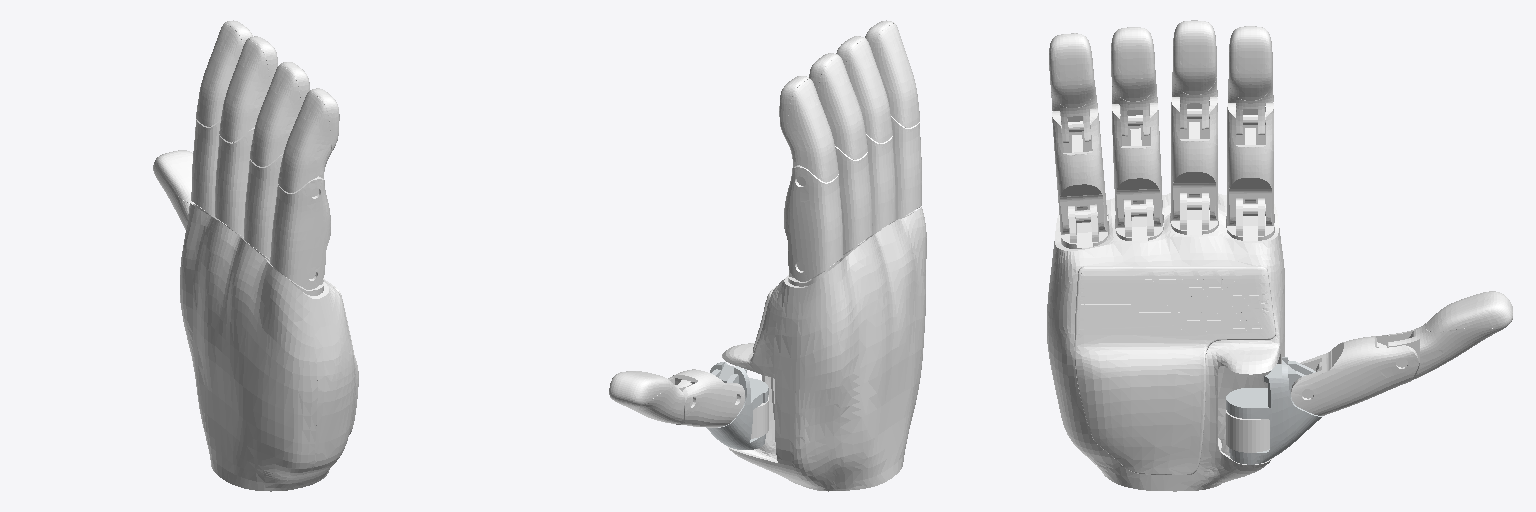
URDF robot description (Righthand):
<?xml version="1.0" encoding="utf-8"?>
<!-- This URDF was automatically created by SolidWorks to URDF Exporter! Originally created by Stephen Brawner (brawner@gmail.com) 
     Commit Version: 1.6.0-4-g7f85cfe  Build Version: 1.6.7995.38578
     For more information, please see http://wiki.ros.org/sw_urdf_exporter -->
<robot
  name="Righthand">
  <link
    name="Base">
    <inertial>
      <origin
        xyz="0.0036213 0.0021608 0.066147"
        rpy="0 0 0" />
      <mass
        value="0.084023" />
      <inertia
        ixx="8.4527E-05"
        ixy="-2.5856E-07"
        ixz="-3.5344E-06"
        iyy="5.0035E-05"
        iyz="2.0761E-06"
        izz="4.5045E-05" />
    </inertial>
    <visual>
      <origin
        xyz="0 0 0"
        rpy="0 0 0" />
      <geometry>
        <mesh
          filename="package://kepler_dexterous_hand_description/meshes/right/right_base.STL" />
      </geometry>
      <material
        name="">
        <color
          rgba="1 1 1 1" />
      </material>
    </visual>
    <collision>
      <origin
        xyz="0 0 0"
        rpy="0 0 0" />
      <geometry>
        <mesh
          filename="package://kepler_dexterous_hand_description/meshes/right/right_base.STL" />
      </geometry>
    </collision>
  </link>
  <link
    name="right_thumb_1_roll">
    <inertial>
      <origin
        xyz="-0.011014 0.00037885 0.0065619"
        rpy="0 0 0" />
      <mass
        value="0.024514" />
      <inertia
        ixx="3.6201E-06"
        ixy="1.3875E-08"
        ixz="-7.2522E-07"
        iyy="4.9359E-06"
        iyz="4.15E-08"
        izz="2.9566E-06" />
    </inertial>
    <visual>
      <origin
        xyz="0 0 0"
        rpy="0 0 0" />
      <geometry>
        <mesh
          filename="package://kepler_dexterous_hand_description/meshes/right/right_thumb_1_roll.STL" />
      </geometry>
      <material
        name="">
        <color
          rgba="0.89804 0.91765 0.92941 1" />
      </material>
    </visual>
    <collision>
      <origin
        xyz="0 0 0"
        rpy="0 0 0" />
      <geometry>
        <mesh
          filename="package://kepler_dexterous_hand_description/meshes/right/right_thumb_1_roll.STL" />
      </geometry>
    </collision>
  </link>
  <joint
    name="right_thumb_1_roll"
    type="revolute">
    <origin
      xyz="0.030472 0.035543 0.032711"
      rpy="0 0 -1.5708" />
    <parent
      link="Base" />
    <child
      link="right_thumb_1_roll" />
    <axis
      xyz="0 0 -1" />
    <limit
      lower="0.000"
      upper="2.269"
      effort="0.500"
      velocity="1.500" />
  </joint>
  <link
    name="right_thumb_2_pitch">
    <inertial>
      <origin
        xyz="0.01953 0.0066571 -1.3101E-08"
        rpy="0 0 0" />
      <mass
        value="0.0287" />
      <inertia
        ixx="2.5196E-06"
        ixy="1.4257E-06"
        ixz="-9.0266E-12"
        iyy="5.6817E-06"
        iyz="-1.1074E-11"
        izz="5.8075E-06" />
    </inertial>
    <visual>
      <origin
        xyz="0 0 0"
        rpy="0 0 0" />
      <geometry>
        <mesh
          filename="package://kepler_dexterous_hand_description/meshes/right/right_thumb_2_pitch.STL" />
      </geometry>
      <material
        name="">
        <color
          rgba="1 1 1 1" />
      </material>
    </visual>
    <collision>
      <origin
        xyz="0 0 0"
        rpy="0 0 0" />
      <geometry>
        <mesh
          filename="package://kepler_dexterous_hand_description/meshes/right/right_thumb_2_pitch.STL" />
      </geometry>
    </collision>
  </link>
  <joint
    name="right_thumb_2_pitch"
    type="revolute">
    <origin
      xyz="-0.024 0 0.01915"
      rpy="1.5708 0 -3.1416" />
    <parent
      link="right_thumb_1_roll" />
    <child
      link="right_thumb_2_pitch" />
    <axis
      xyz="0 0 1" />
    <limit
      lower="0.000"
      upper="1.309"
      effort="0.500"
      velocity="1.500" />
  </joint>
  <link
    name="right_thumb_3_pitch">
    <inertial>
      <origin
        xyz="0.022918 0.01075 1.4591E-08"
        rpy="0 0 0" />
      <mass
        value="0.013259" />
      <inertia
        ixx="9.3593E-07"
        ixy="6.3056E-07"
        ixz="4.764E-12"
        iyy="1.7968E-06"
        iyz="2.0339E-12"
        izz="2.0568E-06" />
    </inertial>
    <visual>
      <origin
        xyz="0 0 0"
        rpy="0 0 0" />
      <geometry>
        <mesh
          filename="package://kepler_dexterous_hand_description/meshes/right/right_thumb_3_pitch.STL" />
      </geometry>
      <material
        name="">
        <color
          rgba="1 1 1 1" />
      </material>
    </visual>
    <collision>
      <origin
        xyz="0 0 0"
        rpy="0 0 0" />
      <geometry>
        <mesh
          filename="package://kepler_dexterous_hand_description/meshes/right/right_thumb_3_pitch.STL" />
      </geometry>
    </collision>
  </link>
  <joint
    name="right_thumb_3_pitch"
    type="revolute">
    <origin
      xyz="0.039467 0.014365 0"
      rpy="0 0 0" />
    <parent
      link="right_thumb_2_pitch" />
    <child
      link="right_thumb_3_pitch" />
    <axis
      xyz="0 0 1" />
    <limit
      lower="0.000"
      upper="1.658"
      effort="0.500"
      velocity="1.500" />
    <mimic joint="right_thumb_2_pitch" multiplier="1.2666157372039724" offset="0" />
  </joint>
  <link
    name="right_index_finger_2_pitch">
    <inertial>
      <origin
        xyz="0.00042387 0.020629 -2.1472E-08"
        rpy="0 0 0" />
      <mass
        value="0.010339" />
      <inertia
        ixx="2.2437E-06"
        ixy="-2.7333E-08"
        ixz="2.7958E-12"
        iyy="7.1078E-07"
        iyz="-4.0282E-12"
        izz="2.0922E-06" />
    </inertial>
    <visual>
      <origin
        xyz="0 0 0"
        rpy="0 0 0" />
      <geometry>
        <mesh
          filename="package://kepler_dexterous_hand_description/meshes/right/right_index_finger_2_pitch.STL" />
      </geometry>
      <material
        name="">
        <color
          rgba="1 1 1 1" />
      </material>
    </visual>
    <collision>
      <origin
        xyz="0 0 0"
        rpy="0 0 0" />
      <geometry>
        <mesh
          filename="package://kepler_dexterous_hand_description/meshes/right/right_index_finger_2_pitch.STL" />
      </geometry>
    </collision>
  </link>
  <joint
    name="right_index_finger_2_pitch"
    type="revolute">
    <origin
      xyz="-0.0035478 0.035543 0.117"
      rpy="1.5708 0 -3.1416" />
    <parent
      link="Base" />
    <child
      link="right_index_finger_2_pitch" />
    <axis
      xyz="0 0 1" />
    <limit
      lower="0.000"
      upper="1.658"
      effort="0.500"
      velocity="1.500" />
  </joint>
  <link
    name="right_index_finger_3_pitch">
    <inertial>
      <origin
        xyz="-0.0024403 0.021904 -1.1888E-06"
        rpy="0 0 0" />
      <mass
        value="0.011204" />
      <inertia
        ixx="1.5656E-06"
        ixy="-2.6558E-07"
        ixz="1.0223E-11"
        iyy="5.19E-07"
        iyz="-9.254E-12"
        izz="1.5727E-06" />
    </inertial>
    <visual>
      <origin
        xyz="0 0 0"
        rpy="0 0 0" />
      <geometry>
        <mesh
          filename="package://kepler_dexterous_hand_description/meshes/right/right_index_finger_3_pitch.STL" />
      </geometry>
      <material
        name="">
        <color
          rgba="1 1 1 1" />
      </material>
    </visual>
    <collision>
      <origin
        xyz="0 0 0"
        rpy="0 0 0" />
      <geometry>
        <mesh
          filename="package://kepler_dexterous_hand_description/meshes/right/right_index_finger_3_pitch.STL" />
      </geometry>
    </collision>
  </link>
  <joint
    name="right_index_finger_3_pitch"
    type="revolute">
    <origin
      xyz="0 0.042 0"
      rpy="0 0 0" />
    <parent
      link="right_index_finger_2_pitch" />
    <child
      link="right_index_finger_3_pitch" />
    <axis
      xyz="0 0 1" />
    <limit
      lower="0.000"
      upper="1.658"
      effort="0.500"
      velocity="1.500" />
    <mimic joint="right_index_finger_2_pitch" multiplier="1" offset="0" />
  </joint>
  <link
    name="right_middle_finger_2_pitch">
    <inertial>
      <origin
        xyz="0.00042387 0.020629 -1.9812E-08"
        rpy="0 0 0" />
      <mass
        value="0.010339" />
      <inertia
        ixx="2.2437E-06"
        ixy="-2.7333E-08"
        ixz="2.6732E-12"
        iyy="7.1078E-07"
        iyz="-4.1276E-12"
        izz="2.0922E-06" />
    </inertial>
    <visual>
      <origin
        xyz="0 0 0"
        rpy="0 0 0" />
      <geometry>
        <mesh
          filename="package://kepler_dexterous_hand_description/meshes/right/right_middle_finger_2_pitch.STL" />
      </geometry>
      <material
        name="">
        <color
          rgba="1 1 1 1" />
      </material>
    </visual>
    <collision>
      <origin
        xyz="0 0 0"
        rpy="0 0 0" />
      <geometry>
        <mesh
          filename="package://kepler_dexterous_hand_description/meshes/right/right_middle_finger_2_pitch.STL" />
      </geometry>
    </collision>
  </link>
  <joint
    name="right_middle_finger_2_pitch"
    type="revolute">
    <origin
      xyz="-0.0050472 0.012043 0.119"
      rpy="1.5708 0 -3.1416" />
    <parent
      link="Base" />
    <child
      link="right_middle_finger_2_pitch" />
    <axis
      xyz="0 0 1" />
    <limit
      lower="0.000"
      upper="1.658"
      effort="0.500"
      velocity="1.500" />
  </joint>
  <link
    name="right_middle_finger_3_pitch">
    <inertial>
      <origin
        xyz="-0.0024403 0.021904 -1.1896E-06"
        rpy="0 0 0" />
      <mass
        value="0.011204" />
      <inertia
        ixx="1.5656E-06"
        ixy="-2.6558E-07"
        ixz="1.0232E-11"
        iyy="5.19E-07"
        iyz="-9.3111E-12"
        izz="1.5727E-06" />
    </inertial>
    <visual>
      <origin
        xyz="0 0 0"
        rpy="0 0 0" />
      <geometry>
        <mesh
          filename="package://kepler_dexterous_hand_description/meshes/right/right_middle_finger_3_pitch.STL" />
      </geometry>
      <material
        name="">
        <color
          rgba="1 1 1 1" />
      </material>
    </visual>
    <collision>
      <origin
        xyz="0 0 0"
        rpy="0 0 0" />
      <geometry>
        <mesh
          filename="package://kepler_dexterous_hand_description/meshes/right/right_middle_finger_3_pitch.STL" />
      </geometry>
    </collision>
  </link>
  <joint
    name="right_middle_finger_3_pitch"
    type="revolute">
    <origin
      xyz="0 0.042 0"
      rpy="0 0 0" />
    <parent
      link="right_middle_finger_2_pitch" />
    <child
      link="right_middle_finger_3_pitch" />
    <axis
      xyz="0 0 1" />
    <limit
      lower="0.000"
      upper="1.658"
      effort="0.500"
      velocity="1.500" />
    <mimic joint="right_middle_finger_2_pitch" multiplier="1" offset="0" />
  </joint>
  <link
    name="right_ring_finger_2_pitch">
    <inertial>
      <origin
        xyz="0.00042374 0.020629 -2.2059E-08"
        rpy="0 0 0" />
      <mass
        value="0.010339" />
      <inertia
        ixx="2.2437E-06"
        ixy="-2.7343E-08"
        ixz="2.6483E-12"
        iyy="7.1078E-07"
        iyz="-4.2261E-12"
        izz="2.0922E-06" />
    </inertial>
    <visual>
      <origin
        xyz="0 0 0"
        rpy="0 0 0" />
      <geometry>
        <mesh
          filename="package://kepler_dexterous_hand_description/meshes/right/right_ring_finger_2_pitch.STL" />
      </geometry>
      <material
        name="">
        <color
          rgba="1 1 1 1" />
      </material>
    </visual>
    <collision>
      <origin
        xyz="0 0 0"
        rpy="0 0 0" />
      <geometry>
        <mesh
          filename="package://kepler_dexterous_hand_description/meshes/right/right_ring_finger_2_pitch.STL" />
      </geometry>
    </collision>
  </link>
  <joint
    name="right_ring_finger_2_pitch"
    type="revolute">
    <origin
      xyz="-0.0035462 -0.011289 0.11663"
      rpy="1.5359 0 -3.1415" />
    <parent
      link="Base" />
    <child
      link="right_ring_finger_2_pitch" />
    <axis
      xyz="0 0 1" />
    <limit
      lower="0.000"
      upper="1.658"
      effort="0.500"
      velocity="1.500" />
  </joint>
  <link
    name="right_ring_finger_3_pitch">
    <inertial>
      <origin
        xyz="-0.0024404 0.021903 -1.1982E-06"
        rpy="0 0 0" />
      <mass
        value="0.011204" />
      <inertia
        ixx="1.5656E-06"
        ixy="-2.6559E-07"
        ixz="1.0482E-11"
        iyy="5.19E-07"
        iyz="-1.1224E-11"
        izz="1.5727E-06" />
    </inertial>
    <visual>
      <origin
        xyz="0 0 0"
        rpy="0 0 0" />
      <geometry>
        <mesh
          filename="package://kepler_dexterous_hand_description/meshes/right/right_ring_finger_3_pitch.STL" />
      </geometry>
      <material
        name="">
        <color
          rgba="1 1 1 1" />
      </material>
    </visual>
    <collision>
      <origin
        xyz="0 0 0"
        rpy="0 0 0" />
      <geometry>
        <mesh
          filename="package://kepler_dexterous_hand_description/meshes/right/right_ring_finger_3_pitch.STL" />
      </geometry>
    </collision>
  </link>
  <joint
    name="right_ring_finger_3_pitch"
    type="revolute">
    <origin
      xyz="0 0.042 0"
      rpy="0 0 0" />
    <parent
      link="right_ring_finger_2_pitch" />
    <child
      link="right_ring_finger_3_pitch" />
    <axis
      xyz="0 0 1" />
    <limit
      lower="0.000"
      upper="1.658"
      effort="0.500"
      velocity="1.500" />
    <mimic joint="right_ring_finger_2_pitch" multiplier="1" offset="0" />
  </joint>
  <link
    name="right_little_finger_2_pitch">
    <inertial>
      <origin
        xyz="0.00042387 0.020629 -2.2299E-08"
        rpy="0 0 0" />
      <mass
        value="0.010339" />
      <inertia
        ixx="2.2437E-06"
        ixy="-2.7333E-08"
        ixz="2.6682E-12"
        iyy="7.1078E-07"
        iyz="-4.2117E-12"
        izz="2.0922E-06" />
    </inertial>
    <visual>
      <origin
        xyz="0 0 0"
        rpy="0 0 0" />
      <geometry>
        <mesh
          filename="package://kepler_dexterous_hand_description/meshes/right/right_little_finger_2_pitch.STL" />
      </geometry>
      <material
        name="">
        <color
          rgba="1 1 1 1" />
      </material>
    </visual>
    <collision>
      <origin
        xyz="0 0 0"
        rpy="0 0 0" />
      <geometry>
        <mesh
          filename="package://kepler_dexterous_hand_description/meshes/right/right_little_finger_2_pitch.STL" />
      </geometry>
    </collision>
  </link>
  <joint
    name="right_little_finger_2_pitch"
    type="revolute">
    <origin
      xyz="-0.0032932 -0.034634 0.11395"
      rpy="1.501 0 -3.1416" />
    <parent
      link="Base" />
    <child
      link="right_little_finger_2_pitch" />
    <axis
      xyz="0 0 1" />
    <limit
      lower="0.000"
      upper="1.658"
      effort="0.500"
      velocity="1.500" />
  </joint>
  <link
    name="right_little_finger_3_pitch">
    <inertial>
      <origin
        xyz="-0.0024404 0.021903 -1.1986E-06"
        rpy="0 0 0" />
      <mass
        value="0.011204" />
      <inertia
        ixx="1.5656E-06"
        ixy="-2.6559E-07"
        ixz="1.0501E-11"
        iyy="5.19E-07"
        iyz="-1.1236E-11"
        izz="1.5727E-06" />
    </inertial>
    <visual>
      <origin
        xyz="0 0 0"
        rpy="0 0 0" />
      <geometry>
        <mesh
          filename="package://kepler_dexterous_hand_description/meshes/right/right_little_finger_3_pitch.STL" />
      </geometry>
      <material
        name="">
        <color
          rgba="1 1 1 1" />
      </material>
    </visual>
    <collision>
      <origin
        xyz="0 0 0"
        rpy="0 0 0" />
      <geometry>
        <mesh
          filename="package://kepler_dexterous_hand_description/meshes/right/right_little_finger_3_pitch.STL" />
      </geometry>
    </collision>
  </link>
  <joint
    name="right_little_finger_3_pitch"
    type="revolute">
    <origin
      xyz="0 0.042 0"
      rpy="0 0 0" />
    <parent
      link="right_little_finger_2_pitch" />
    <child
      link="right_little_finger_3_pitch" />
    <axis
      xyz="0 0 1" />
    <limit
      lower="0.000"
      upper="1.658"
      effort="0.500"
      velocity="1.500" />
    <mimic joint="right_little_finger_2_pitch" multiplier="1" offset="0" />
  </joint>
</robot>

--- Render facts (derived) ---
Views: 3 orthographic renders of the robot side by side, from view 1: azimuth 30°, elevation 25°; view 2: azimuth 150°, elevation 25°; view 3: azimuth 270°, elevation 25°.
Model Righthand with 12 links and 11 joints (11 revolute), rooted at Base, posed every joint at zero.
Visible links, largest first — view 1: Base, right_little_finger_2_pitch, right_little_finger_3_pitch, right_middle_finger_3_pitch, right_ring_finger_3_pitch, right_index_finger_3_pitch, right_middle_finger_2_pitch, right_ring_finger_2_pitch, right_index_finger_2_pitch, right_thumb_3_pitch; view 2: Base, right_index_finger_2_pitch, right_index_finger_3_pitch, right_middle_finger_3_pitch, right_little_finger_3_pitch, right_ring_finger_3_pitch, right_thumb_3_pitch, right_thumb_2_pitch, right_middle_finger_2_pitch, right_thumb_1_roll, right_little_finger_2_pitch, right_ring_finger_2_pitch; view 3: Base, right_thumb_2_pitch, right_thumb_3_pitch, right_ring_finger_2_pitch, right_little_finger_2_pitch, right_thumb_1_roll, right_middle_finger_2_pitch, right_index_finger_2_pitch, right_index_finger_3_pitch, right_middle_finger_3_pitch, right_ring_finger_3_pitch, right_little_finger_3_pitch.
Link boxes in pixels (x1=…): Base: x1=180, y1=203, x2=358, y2=491; right_little_finger_2_pitch: x1=270, y1=176, x2=330, y2=289; right_little_finger_3_pitch: x1=278, y1=88, x2=339, y2=192; right_middle_finger_3_pitch: x1=219, y1=36, x2=277, y2=142; right_ring_finger_3_pitch: x1=250, y1=62, x2=309, y2=166; right_index_finger_3_pitch: x1=196, y1=20, x2=252, y2=126; right_middle_finger_2_pitch: x1=215, y1=127, x2=254, y2=235; right_ring_finger_2_pitch: x1=244, y1=154, x2=282, y2=257; right_index_finger_2_pitch: x1=191, y1=119, x2=220, y2=217; right_thumb_3_pitch: x1=153, y1=150, x2=194, y2=229; Base: x1=722, y1=207, x2=926, y2=491; right_index_finger_2_pitch: x1=784, y1=165, x2=843, y2=281; right_index_finger_3_pitch: x1=779, y1=76, x2=838, y2=182; right_middle_finger_3_pitch: x1=809, y1=53, x2=867, y2=159; right_little_finger_3_pitch: x1=865, y1=20, x2=919, y2=127; right_ring_finger_3_pitch: x1=836, y1=36, x2=892, y2=142; right_thumb_3_pitch: x1=609, y1=371, x2=692, y2=423; right_thumb_2_pitch: x1=668, y1=369, x2=744, y2=427; right_middle_finger_2_pitch: x1=835, y1=146, x2=872, y2=253; right_thumb_1_roll: x1=706, y1=362, x2=768, y2=449; right_little_finger_2_pitch: x1=890, y1=116, x2=921, y2=223; right_ring_finger_2_pitch: x1=866, y1=134, x2=895, y2=237; Base: x1=1047, y1=193, x2=1284, y2=491; right_thumb_2_pitch: x1=1291, y1=335, x2=1418, y2=415; right_thumb_3_pitch: x1=1387, y1=291, x2=1512, y2=379; right_ring_finger_2_pitch: x1=1112, y1=103, x2=1162, y2=227; right_little_finger_2_pitch: x1=1052, y1=108, x2=1107, y2=234; right_thumb_1_roll: x1=1226, y1=357, x2=1322, y2=464; right_middle_finger_2_pitch: x1=1171, y1=97, x2=1217, y2=220; right_index_finger_2_pitch: x1=1227, y1=103, x2=1274, y2=225; right_index_finger_3_pitch: x1=1228, y1=26, x2=1273, y2=134; right_middle_finger_3_pitch: x1=1172, y1=20, x2=1217, y2=129; right_ring_finger_3_pitch: x1=1111, y1=27, x2=1157, y2=136; right_little_finger_3_pitch: x1=1049, y1=33, x2=1097, y2=142.
Size in the robot's own frame: 0.0679 by 0.1958 by 0.2062 metres.
12 mesh visuals loaded from 12 distinct referenced files (12 binary STL).
